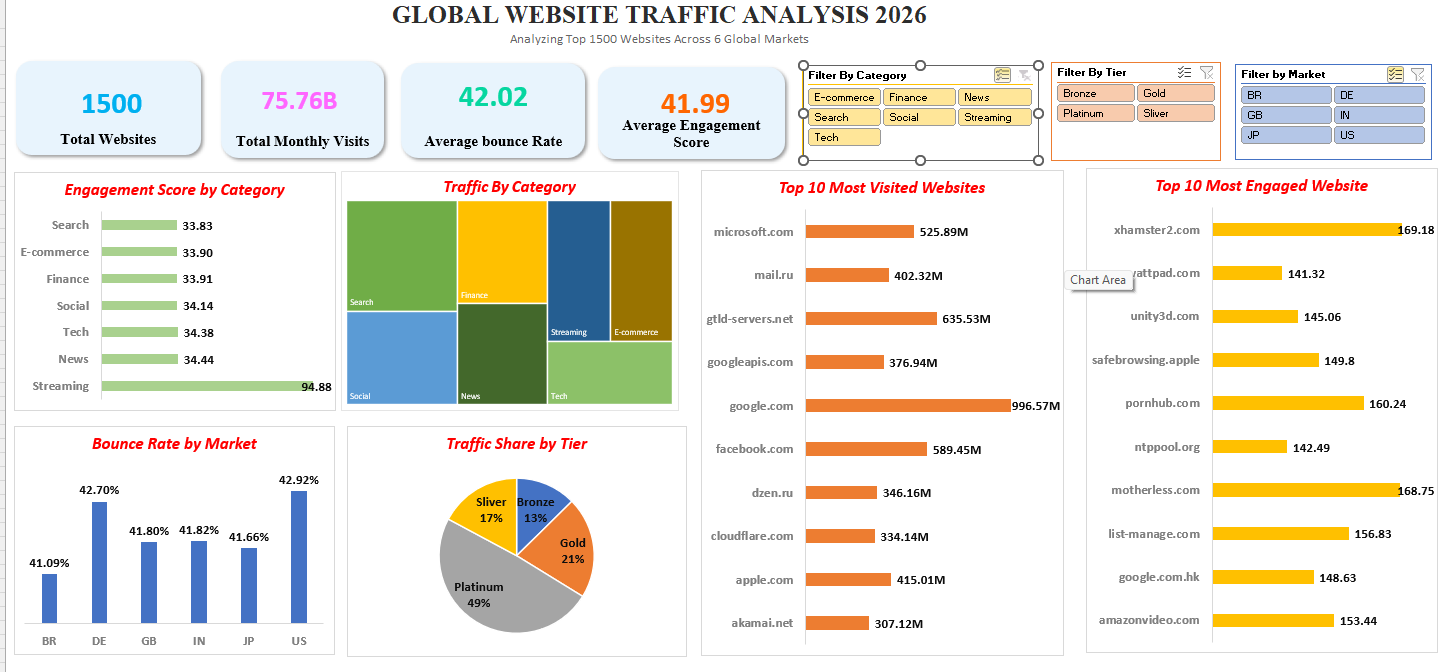

The dashboard page shown, as its layout file describes it:
{"tool":"powerbi","page":{"name":"Page 3","canvas":[1920,1080],"ordinal":0},"visuals":[{"type":"pieChart","title":"Traffic Tier Share ","fields":{"Category":["web traffic_2026.traffic_tier"],"Y":["Sum(web traffic_2026.monthly_visits)"]},"box":[652.2,684.3,611.3,382.2],"z":0},{"type":"columnChart","title":"Bounce rate by market","fields":{"Y":["Avg(web traffic_2026.bounce_rate_pct)"],"Category":["web traffic_2026.primary_market"]},"box":[652.2,293.3,612.8,380.8],"z":1000},{"type":"clusteredBarChart","title":"Top 10 most visited Websites","fields":{"Category":["web traffic_2026.domain"],"Y":["Sum(web traffic_2026.monthly_visits)"]},"box":[1278.1,293.3,618.6,380.8],"z":2000},{"type":"columnChart","title":"Engagement by Category","fields":{"Category":["web traffic_2026.category"],"Y":["Avg(web traffic_2026.enagement_score)"]},"box":[20.4,293.3,609.8,380.8],"z":3000},{"type":"barChart","title":"Top 10 Engaging Websites","fields":{"Category":["web traffic_2026.domain"],"Y":["Avg(web traffic_2026.enagement_score)"]},"box":[20.4,684.3,609.8,382.2],"z":4000},{"type":"treemap","title":"Traffic by Category","fields":{"Group":["web traffic_2026.category"],"Values":["Sum(web traffic_2026.monthly_visits)"]},"box":[1278.1,684.3,618.6,382.2],"z":5000},{"type":"cardVisual","fields":{"Data":["web traffic_2026.Total Websites"]},"box":[21.9,116.7,296.2,161.9],"z":6000},{"type":"cardVisual","title":"Monthly Visits","fields":{"Data":["web traffic_2026.MAX Monthly Visits"]},"box":[342.9,116.7,303.5,161.9],"z":7000},{"type":"cardVisual","fields":{"Data":["web traffic_2026.Avg Bounce Rate"]},"box":[679.9,116.7,303.5,161.9],"z":8000},{"type":"cardVisual","fields":{"Data":["web traffic_2026.Avg Engagement Score"]},"box":[1002.3,116.7,303.5,161.9],"z":9000},{"type":"slicer","title":"Market","fields":{"Values":["web traffic_2026.primary_market"]},"box":[1336.4,4.4,268.4,116.7],"z":10000},{"type":"slicer","title":"Category","fields":{"Values":["web traffic_2026.category"]},"box":[1628.2,4.4,268.4,274.3],"z":11000},{"type":"textbox","title":"Global Website Traffic Analysis","box":[20.4,0,1244.5,100.7],"z":12000},{"type":"image","box":[0,0,248,75.9],"z":13000},{"type":"slicer","title":"Traffic Tier","fields":{"Values":["web traffic_2026.traffic_tier"]},"box":[1336.4,148.8,268.4,116.7],"z":13001}]}

Visuals, with their boxes on the page's 1920x1080 design canvas (x1, y1, x2, y2). These are canvas units, not pixel positions in the 1449x672 screenshot, which may show the page scaled, cropped or inside an application window:
"Traffic Tier Share " pieChart: 652 684 1264 1066
"Bounce rate by market" columnChart: 652 293 1265 674
"Top 10 most visited Websites" clusteredBarChart: 1278 293 1897 674
"Engagement by Category" columnChart: 20 293 630 674
"Top 10 Engaging Websites" barChart: 20 684 630 1066
"Traffic by Category" treemap: 1278 684 1897 1066
cardVisual - web traffic_2026.Total Websites: 22 117 318 279
"Monthly Visits" cardVisual: 343 117 646 279
cardVisual - web traffic_2026.Avg Bounce Rate: 680 117 983 279
cardVisual - web traffic_2026.Avg Engagement Score: 1002 117 1306 279
"Market" slicer: 1336 4 1605 121
"Category" slicer: 1628 4 1897 279
"Global Website Traffic Analysis" textbox: 20 0 1265 101
image: 0 0 248 76
"Traffic Tier" slicer: 1336 149 1605 266
